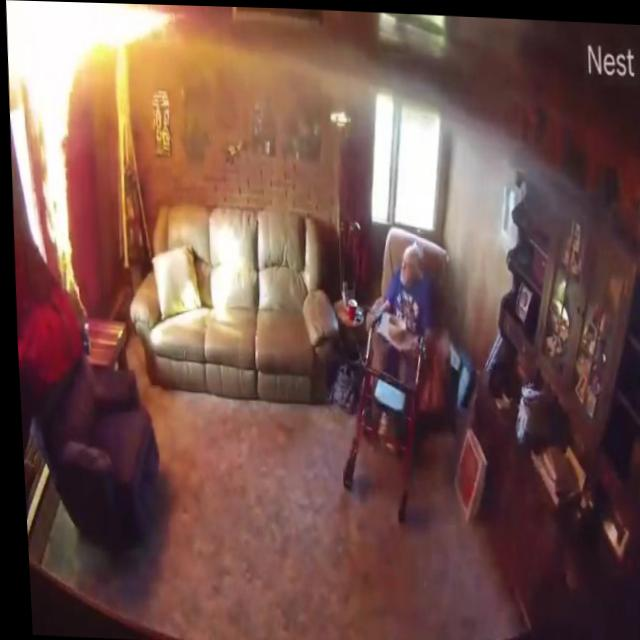fire: (18, 0, 82, 285), (4, 0, 173, 63)
